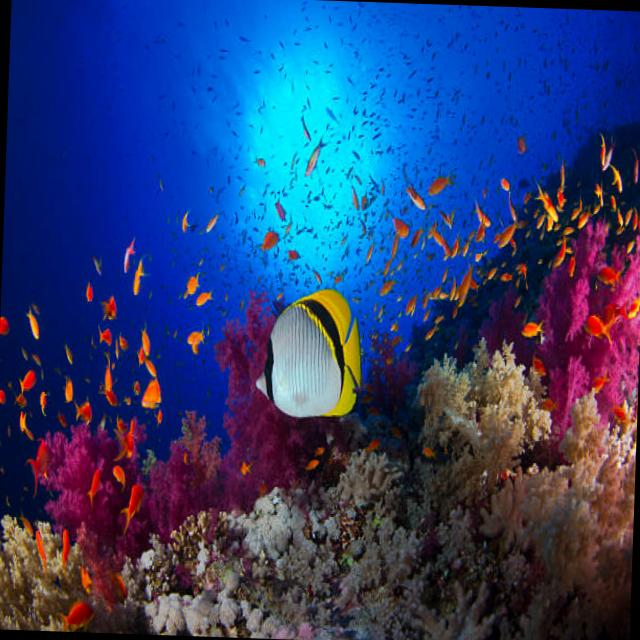ButterflyFish: (252, 285, 366, 422)
